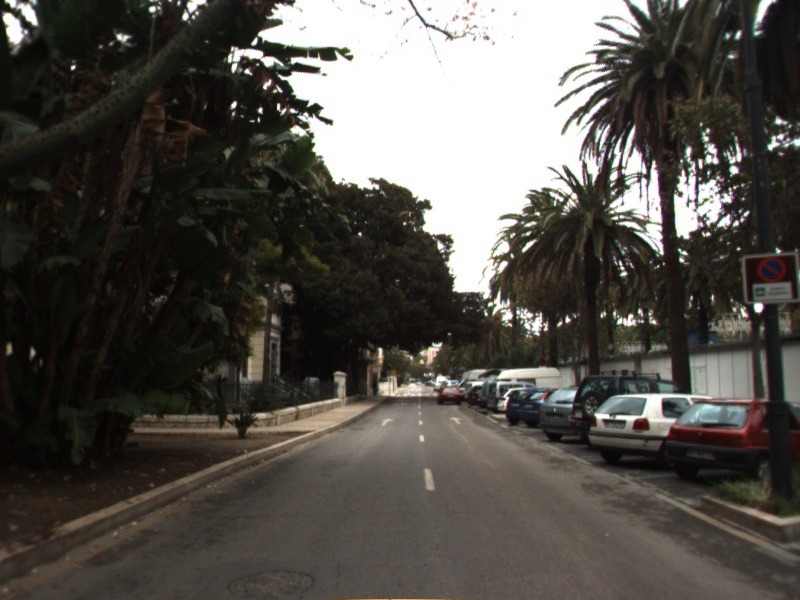STRAIGHT: (446, 414, 466, 426), (378, 416, 397, 428)
